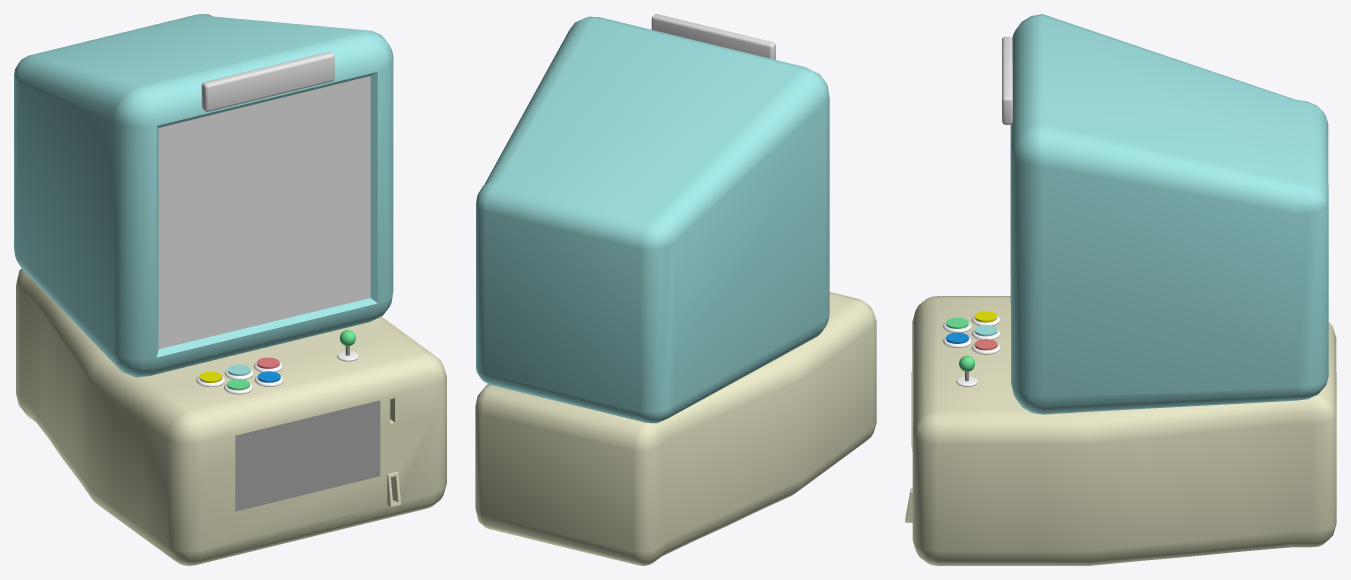
File: game.glb
The picture shows the model from 3 angles, left to right: view 1: azimuth 30°, elevation 25°; view 2: azimuth 150°, elevation 25°; view 3: azimuth 270°, elevation 25°; orthographic projection. The views are drawn at different scales.
Parts seen in each view (by area): view 1: 문방구_1; view 2: 문방구_1; view 3: 문방구_1.
Part boxes in pixels (x1,y1,x2,y2): 문방구_1: (14, 14, 446, 565); 문방구_1: (475, 14, 876, 565); 문방구_1: (905, 14, 1336, 565).
Size of the model in its own units: 1.61 by 2.44 by 2.17.
